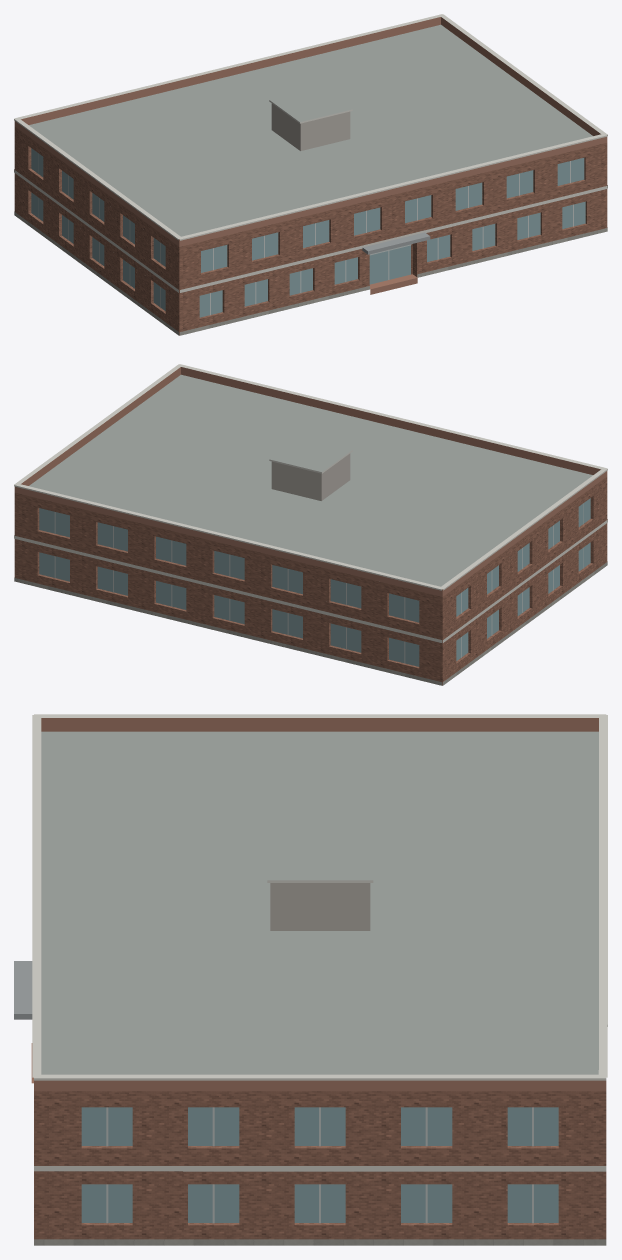
The picture shows the model from 3 angles, top to bottom: view 1: azimuth 30°, elevation 25°; view 2: azimuth 150°, elevation 25°; view 3: azimuth 270°, elevation 25°; orthographic projection. The views are drawn at different scales.
Parts seen in each view (by area): view 1: w8__roof, w8__wall, w8__glass, w8__parapet, w8__trim, w8__base, w8__wall2, w8__frame, w8__canopy, w8__entranceThreshold; view 2: w8__roof, w8__wall, w8__glass, w8__parapet, w8__trim, w8__base, w8__wall2, w8__frame; view 3: w8__roof, w8__wall, w8__glass, w8__trim, w8__parapet, w8__wall2, w8__base, w8__canopy, w8__frame.
Part boxes in pixels (left/top/right/bottom): w8__roof: left=29, top=24, right=592, bottom=335; w8__wall: left=14, top=127, right=607, bottom=335; w8__glass: left=31, top=148, right=585, bottom=317; w8__parapet: left=14, top=17, right=607, bottom=246; w8__trim: left=14, top=14, right=607, bottom=292; w8__base: left=14, top=211, right=607, bottom=335; w8__wall2: left=271, top=103, right=350, bottom=150; w8__frame: left=38, top=153, right=573, bottom=315; w8__canopy: left=362, top=232, right=430, bottom=254; w8__entranceThreshold: left=369, top=274, right=417, bottom=294; w8__roof: left=29, top=374, right=592, bottom=685; w8__wall: left=14, top=477, right=607, bottom=685; w8__glass: left=39, top=498, right=590, bottom=666; w8__parapet: left=14, top=367, right=607, bottom=596; w8__trim: left=14, top=364, right=607, bottom=642; w8__base: left=14, top=561, right=607, bottom=685; w8__wall2: left=271, top=453, right=350, bottom=500; w8__frame: left=54, top=503, right=583, bottom=663; w8__roof: left=41, top=731, right=598, bottom=1074; w8__wall: left=34, top=1091, right=606, bottom=1239; w8__glass: left=81, top=1107, right=558, bottom=1222; w8__trim: left=32, top=714, right=607, bottom=1171; w8__parapet: left=34, top=718, right=606, bottom=1091; w8__wall2: left=270, top=883, right=370, bottom=930; w8__base: left=34, top=1239, right=606, bottom=1245; w8__canopy: left=14, top=961, right=32, bottom=1019; w8__frame: left=106, top=1107, right=533, bottom=1223.
Bounding box in the file's own units: 34.49 × 9.5 × 23.78.
11 materials, 2 textured.
